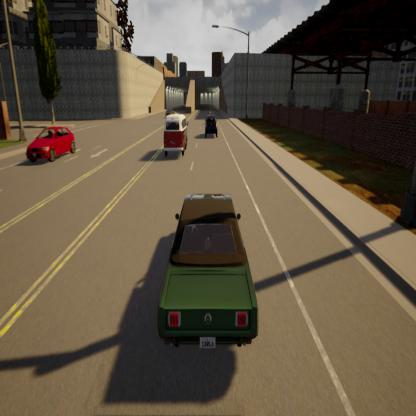Cars: (156, 184, 266, 360), (26, 122, 78, 167), (161, 110, 190, 158), (202, 112, 221, 138)
